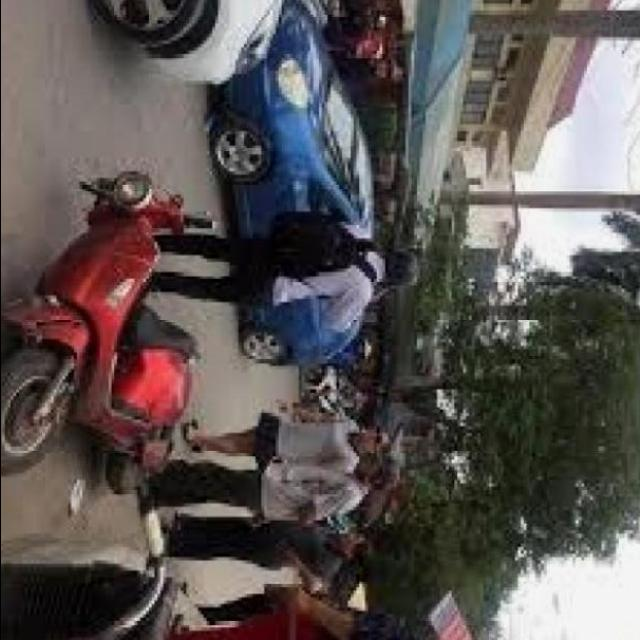accident: (0, 134, 245, 520)
